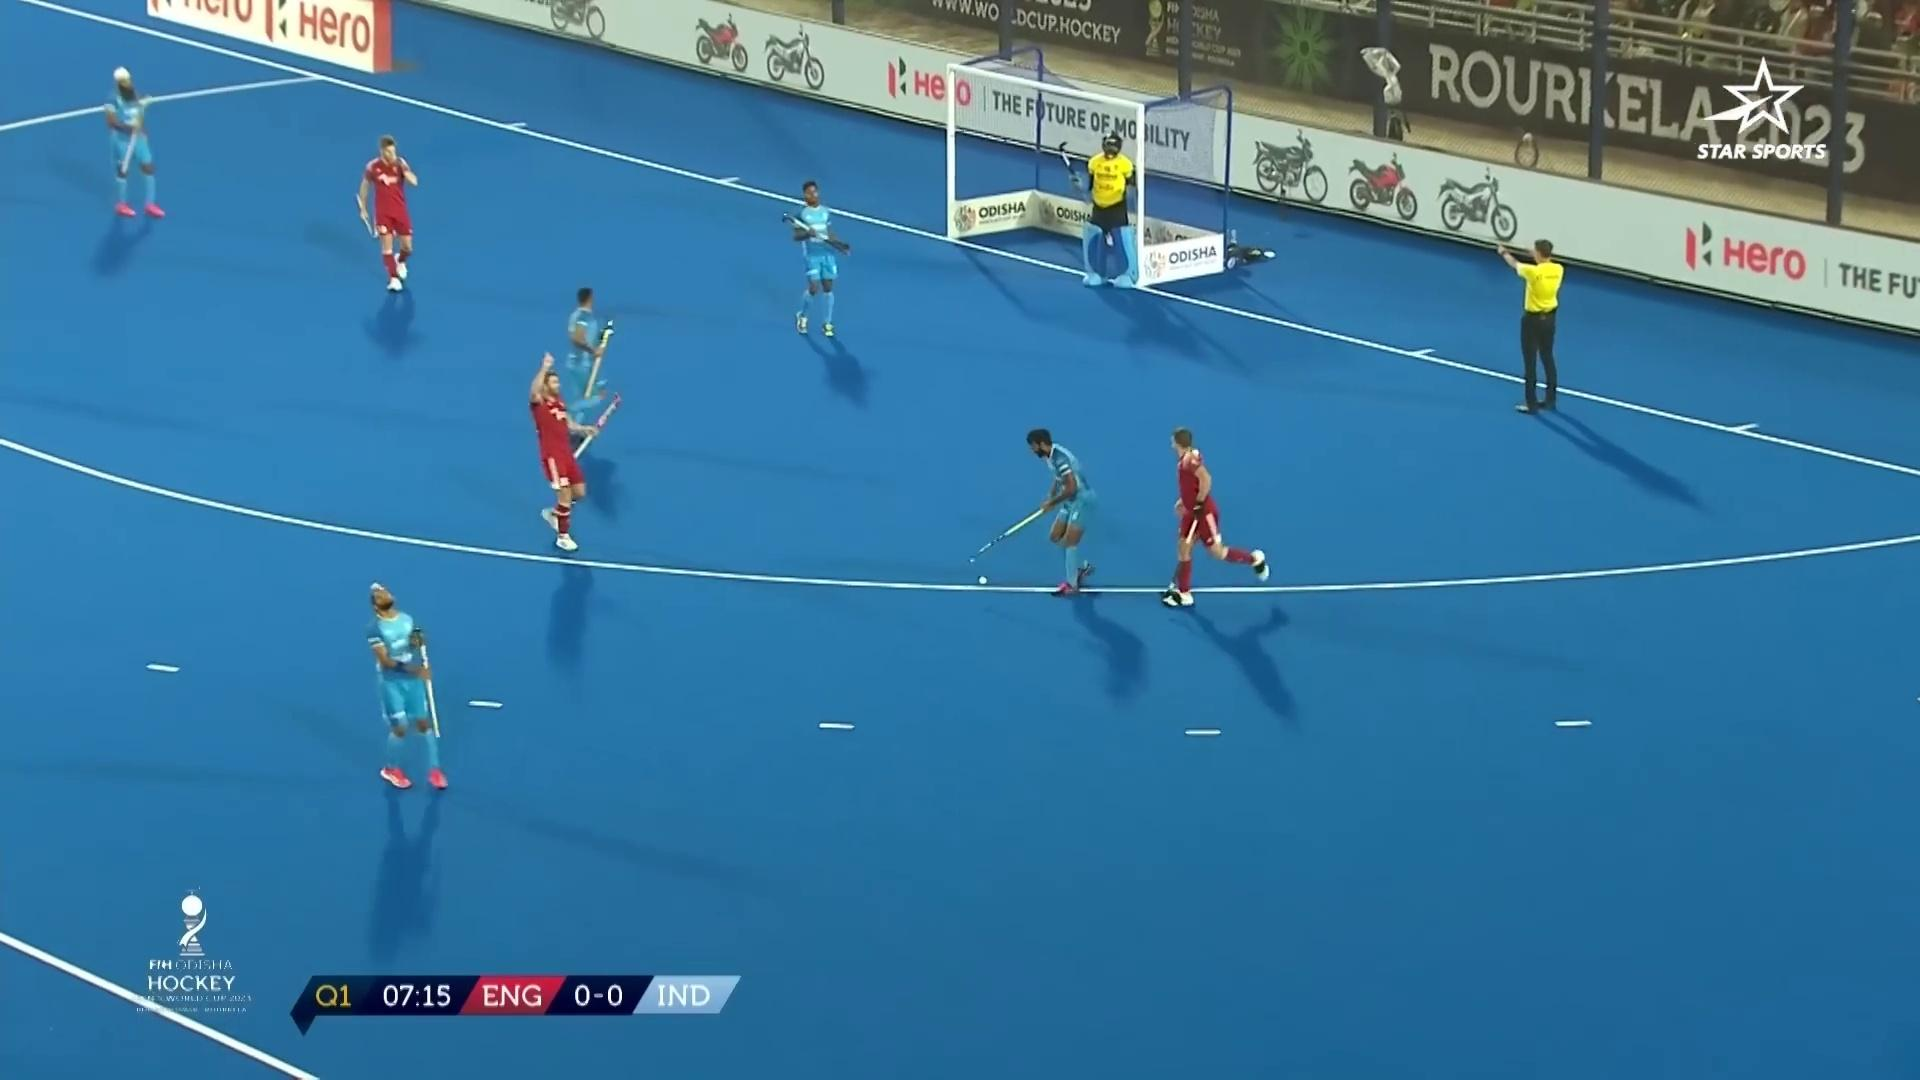ball: (968, 567, 1000, 591)
